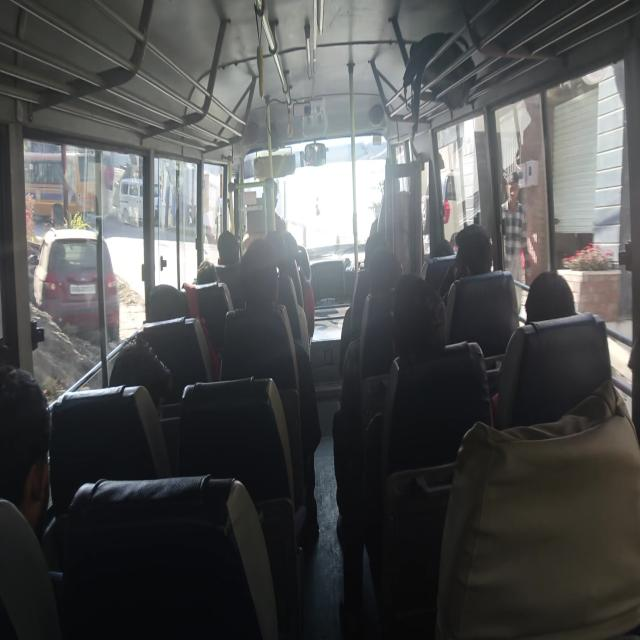person: (0, 390, 66, 573), (384, 279, 450, 368), (116, 338, 162, 428), (524, 271, 571, 348), (458, 228, 500, 302), (242, 236, 278, 314), (372, 254, 418, 306), (142, 278, 184, 326), (430, 230, 463, 272), (262, 228, 292, 274), (198, 220, 236, 256), (192, 252, 222, 292), (276, 224, 306, 255), (363, 236, 389, 266)
